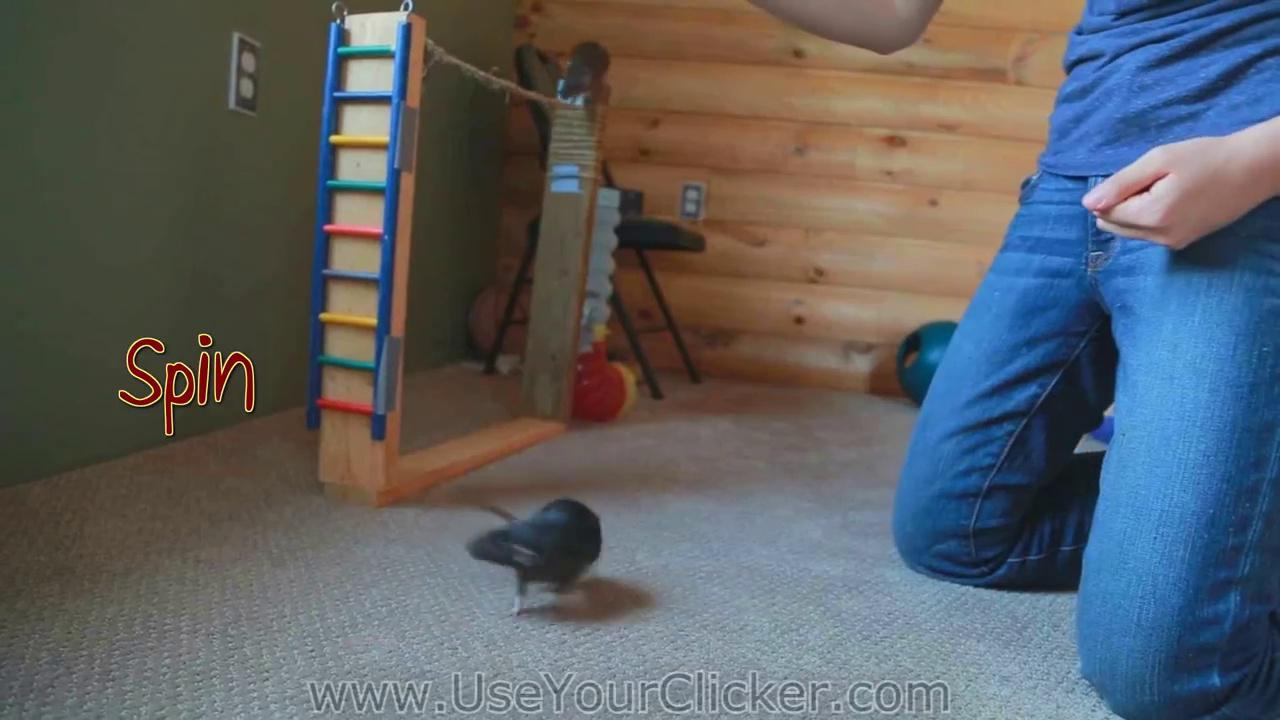rat: (464, 493, 604, 621)
